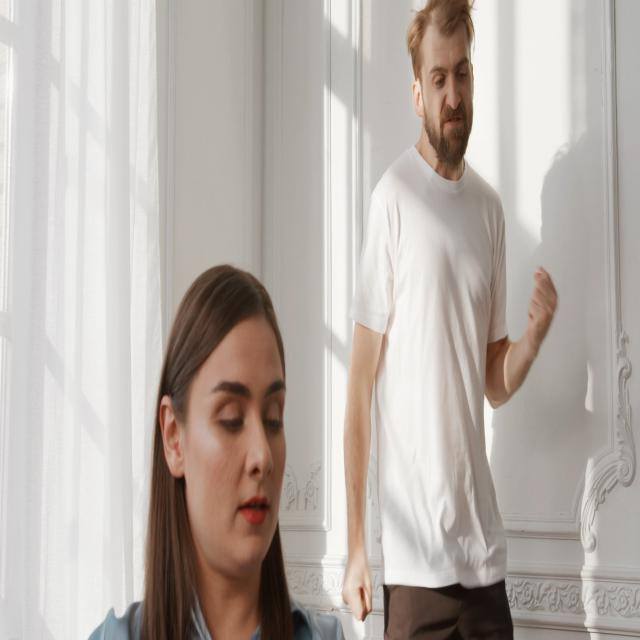frustrated: (394, 2, 493, 202)
satisfied: (164, 255, 305, 629)
